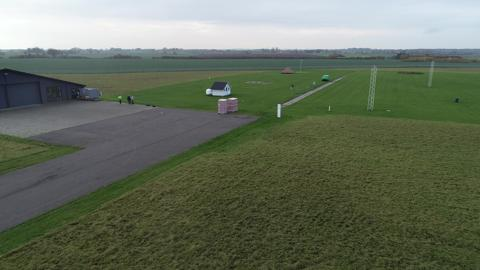RockwoolPallet: (227, 98, 237, 112)
